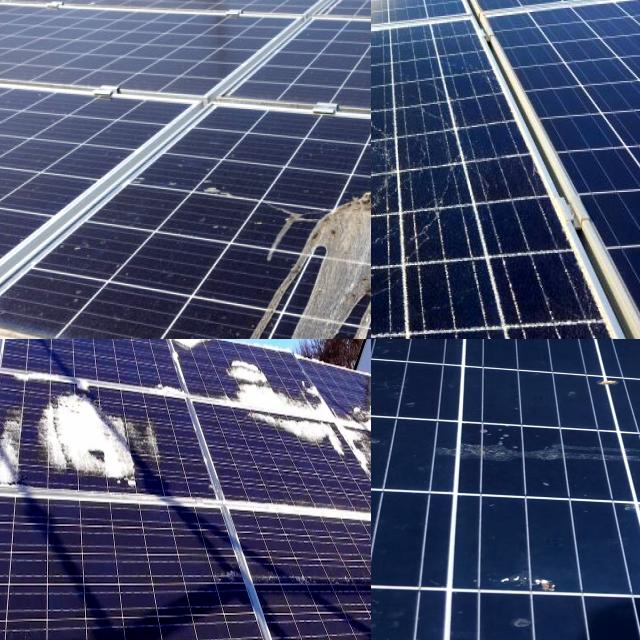bird: (280, 139, 371, 339), (445, 552, 626, 640)
hotspot: (371, 128, 425, 253)
panel: (34, 376, 144, 489), (227, 352, 331, 449), (0, 392, 28, 498), (148, 339, 213, 357), (349, 392, 371, 442)
